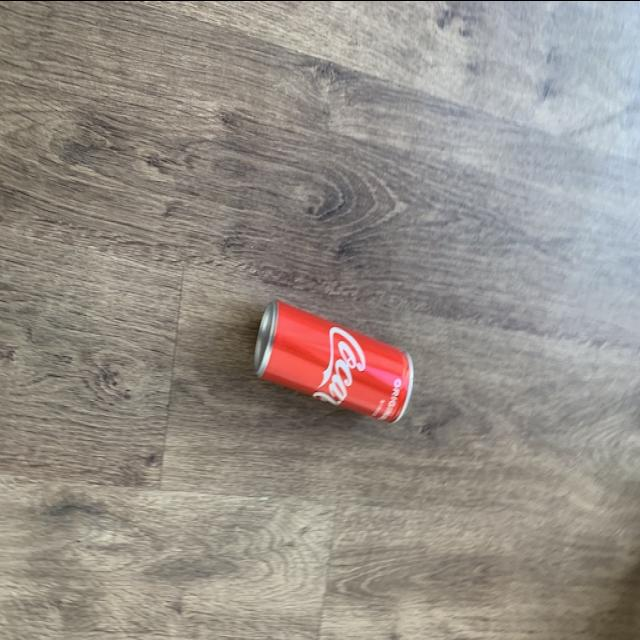Aluminum Can: (244, 278, 424, 460)
